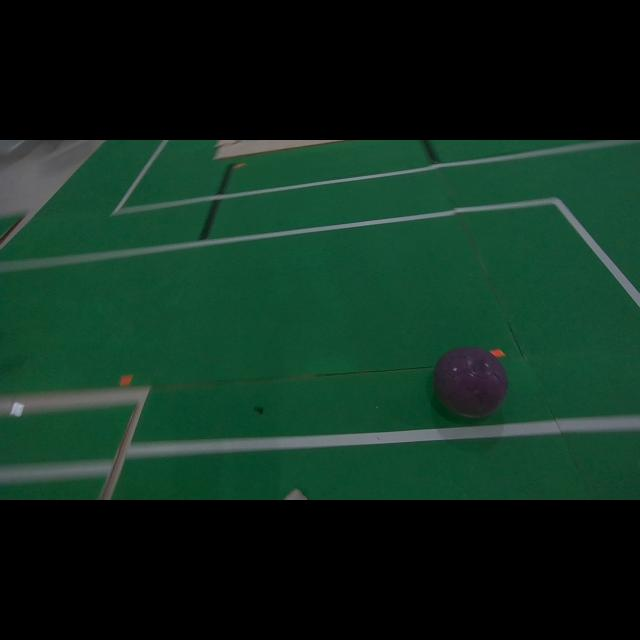P: (435, 348, 508, 418)
